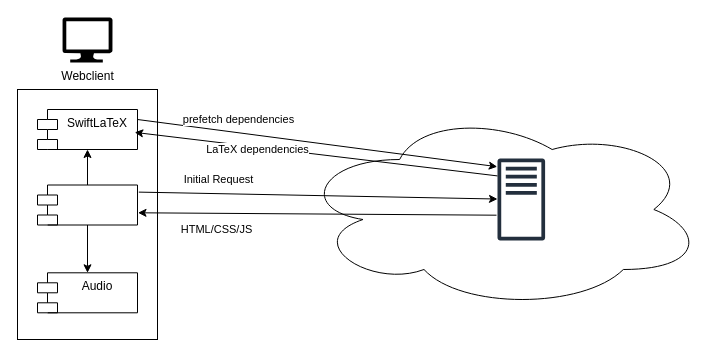
This 723x357 diagram has some shape labels left out. Here are the shapes that lost their labels. From the top down, the centre of each, then its label:
At (x=87, y=204): "SPA".
At (x=521, y=199): "https://decibel-threshold-event-displayer.github.io/".
